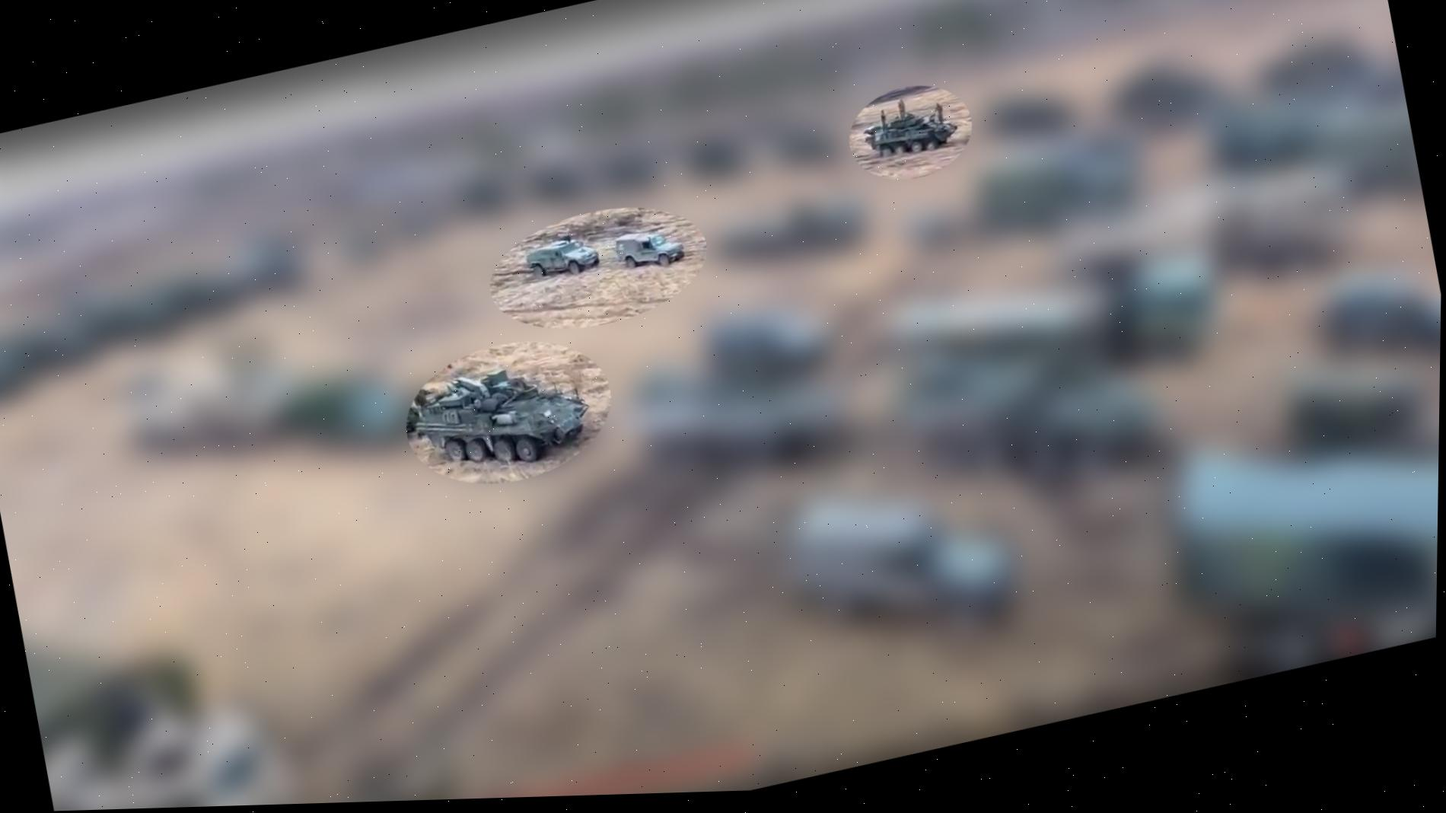armored_car: (407, 347, 597, 487), (858, 96, 964, 166), (609, 220, 690, 278), (522, 231, 604, 285)
